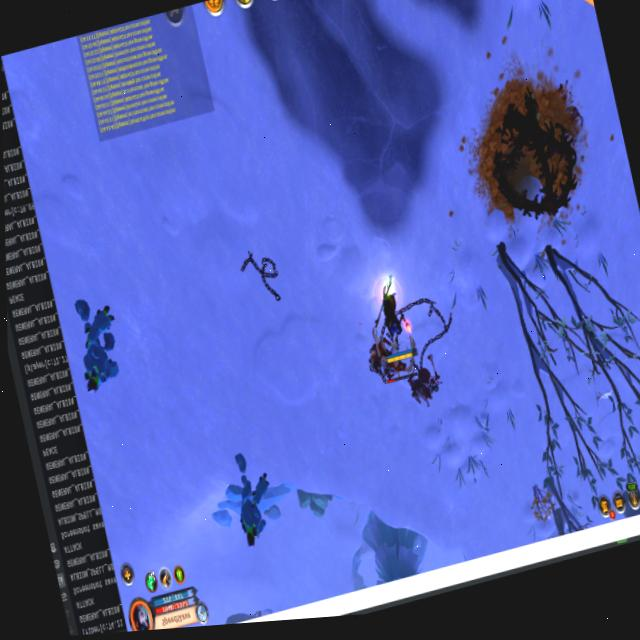hide: (524, 479, 558, 528)
ore: (61, 271, 132, 406), (217, 432, 290, 561), (369, 316, 422, 394)
red: (362, 269, 422, 375)
tree: (290, 472, 339, 529)
